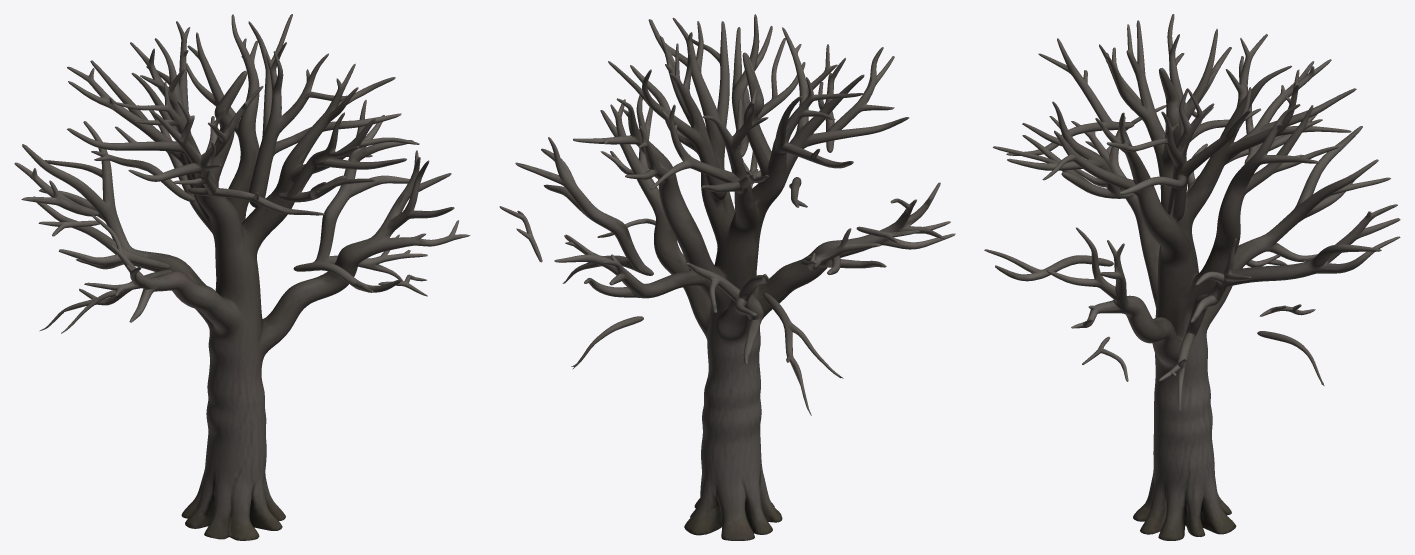
Rendered from prop_bare_a.glb.
3 views of the same model, side by side, from view 1: azimuth 30°, elevation 25°; view 2: azimuth 150°, elevation 25°; view 3: azimuth 270°, elevation 25° (orthographic).
Visible parts, largest first — view 1: node_0; view 2: node_0; view 3: node_0.
Boxes of the visible parts, x1,y1,x2,y2 form: node_0: (14, 14, 470, 540); node_0: (499, 14, 955, 540); node_0: (984, 14, 1400, 540).
Size of the model in its own units: 0.8878 by 1.07 by 0.8735.
Materials: 1 (1 with a texture image).
